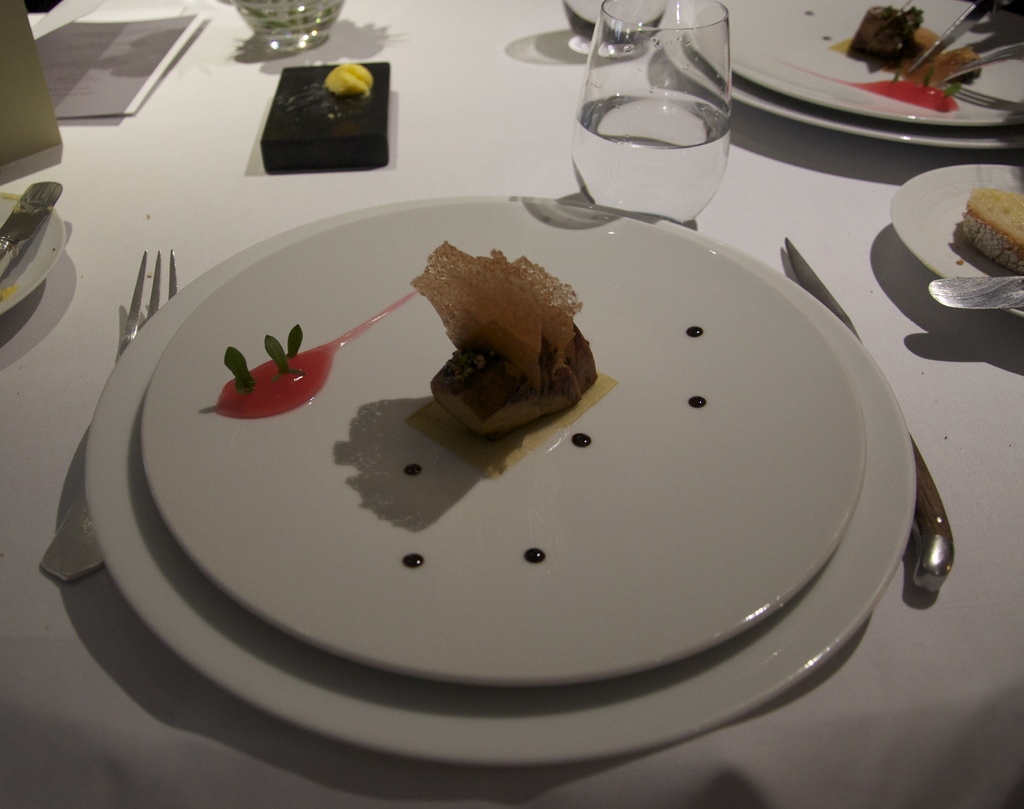plate: (81, 188, 922, 749)
